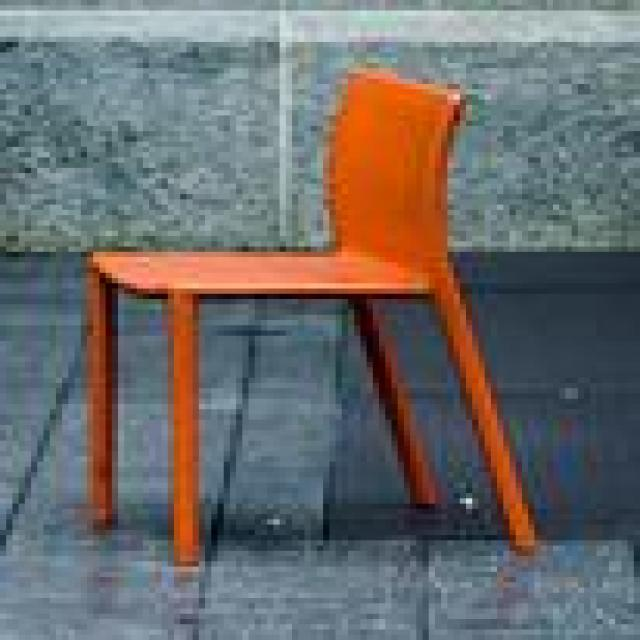chair: (80, 63, 540, 561)
